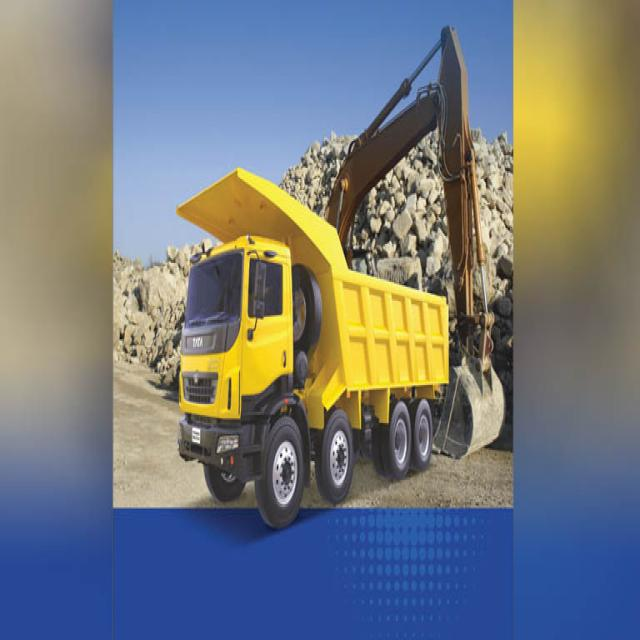dump_truck: (138, 166, 448, 536)
excavator: (342, 15, 510, 448)
